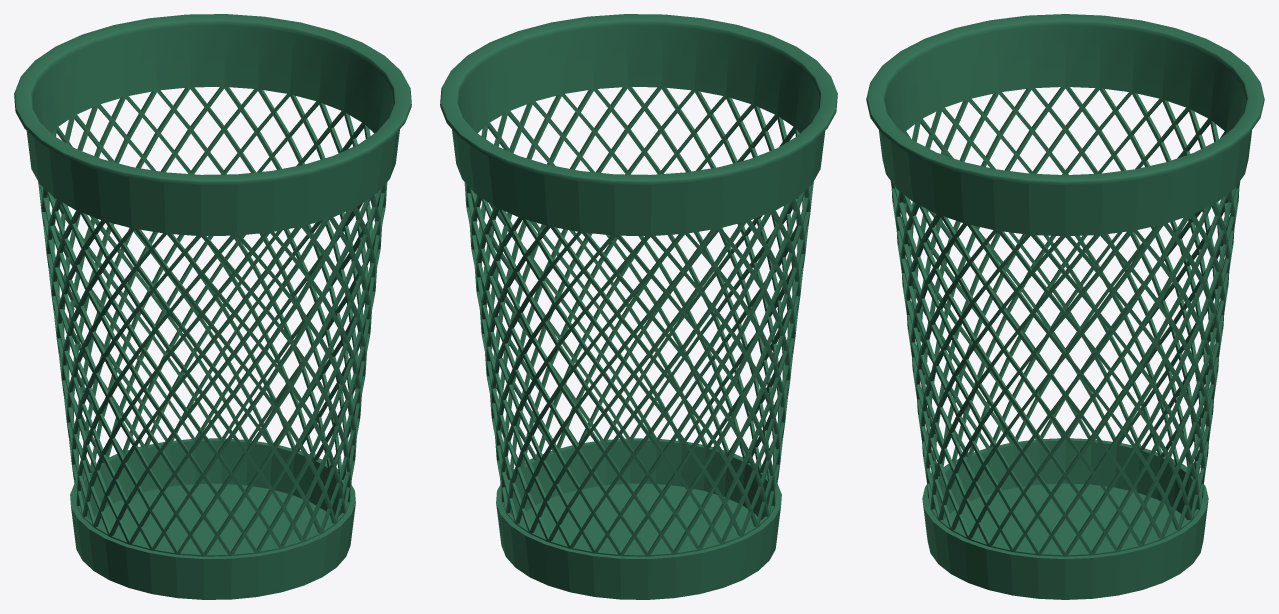
The model's file is Ball-Green-.glb.
The picture shows the model from 3 angles, left to right: view 1: azimuth 30°, elevation 25°; view 2: azimuth 150°, elevation 25°; view 3: azimuth 270°, elevation 25°; orthographic projection.
Visible parts, largest first — view 1: TrashBin3; view 2: TrashBin3; view 3: TrashBin3.
Boxes of the visible parts, box(x1,y1,x2,y2) form: TrashBin3: box(14, 14, 411, 599); TrashBin3: box(440, 14, 837, 599); TrashBin3: box(866, 14, 1264, 599).
Size of the model in its own units: 327 by 402 by 327.
